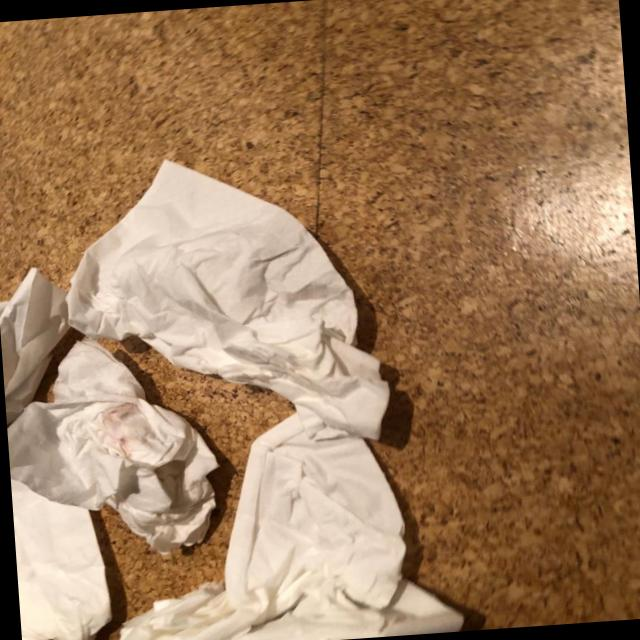organic waste: (53, 142, 400, 462), (99, 400, 466, 640), (1, 330, 231, 564), (10, 468, 111, 640), (0, 265, 73, 425)
